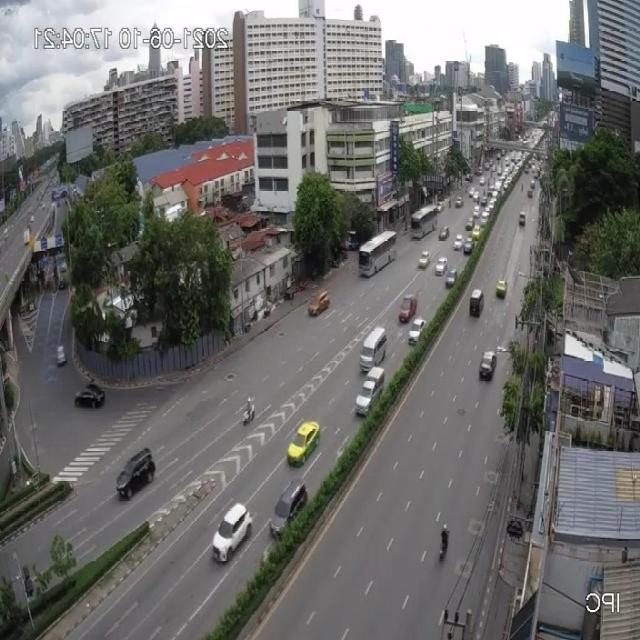Bus: (358, 228, 398, 278), (408, 202, 439, 242)
Car: (114, 447, 160, 505), (268, 478, 310, 540), (215, 500, 252, 560), (354, 362, 387, 419), (286, 417, 322, 469), (75, 374, 107, 408), (465, 282, 492, 318), (306, 290, 332, 324), (52, 330, 69, 378), (478, 344, 498, 382), (408, 314, 426, 344), (496, 274, 510, 302), (445, 266, 461, 289), (436, 251, 448, 276), (419, 250, 431, 268), (437, 226, 451, 240), (454, 234, 464, 251), (454, 193, 465, 208), (464, 237, 473, 253), (518, 212, 527, 228), (480, 191, 488, 207), (481, 210, 488, 227), (473, 224, 480, 239), (466, 216, 474, 229), (468, 185, 475, 199), (502, 178, 510, 190), (494, 179, 502, 191), (491, 190, 499, 202), (479, 175, 486, 186), (488, 198, 494, 210), (473, 189, 479, 200), (473, 206, 479, 217), (497, 166, 502, 177), (491, 165, 497, 172)
Cycle: (437, 516, 454, 560), (242, 394, 255, 424)
Van: (360, 324, 389, 368)
